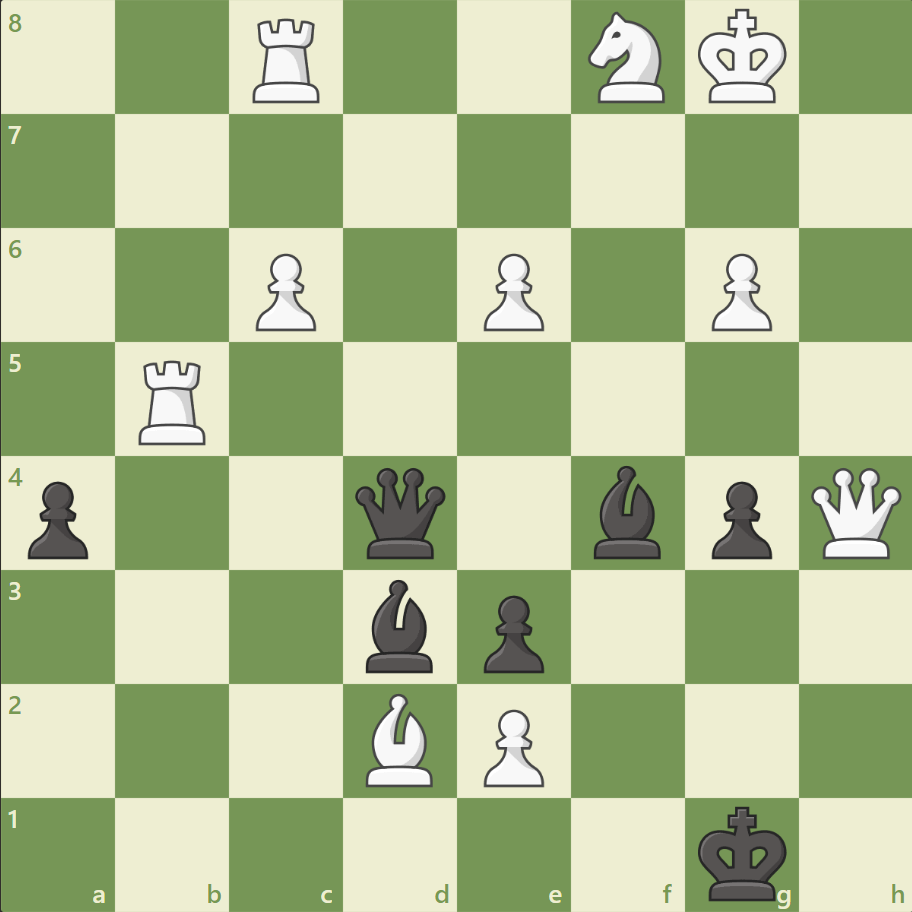B: (358, 687, 442, 790)
K: (692, 4, 792, 112)
N: (579, 7, 676, 110)
P: (247, 246, 322, 337), (474, 246, 549, 337), (701, 246, 776, 337), (474, 700, 549, 791)
Q: (805, 463, 904, 562)
R: (246, 12, 329, 109), (133, 352, 215, 449)
b: (585, 460, 669, 563), (358, 574, 442, 676)
k: (692, 798, 792, 906)
p: (20, 473, 95, 564), (701, 473, 776, 564), (474, 586, 549, 677)
q: (351, 463, 450, 562)
